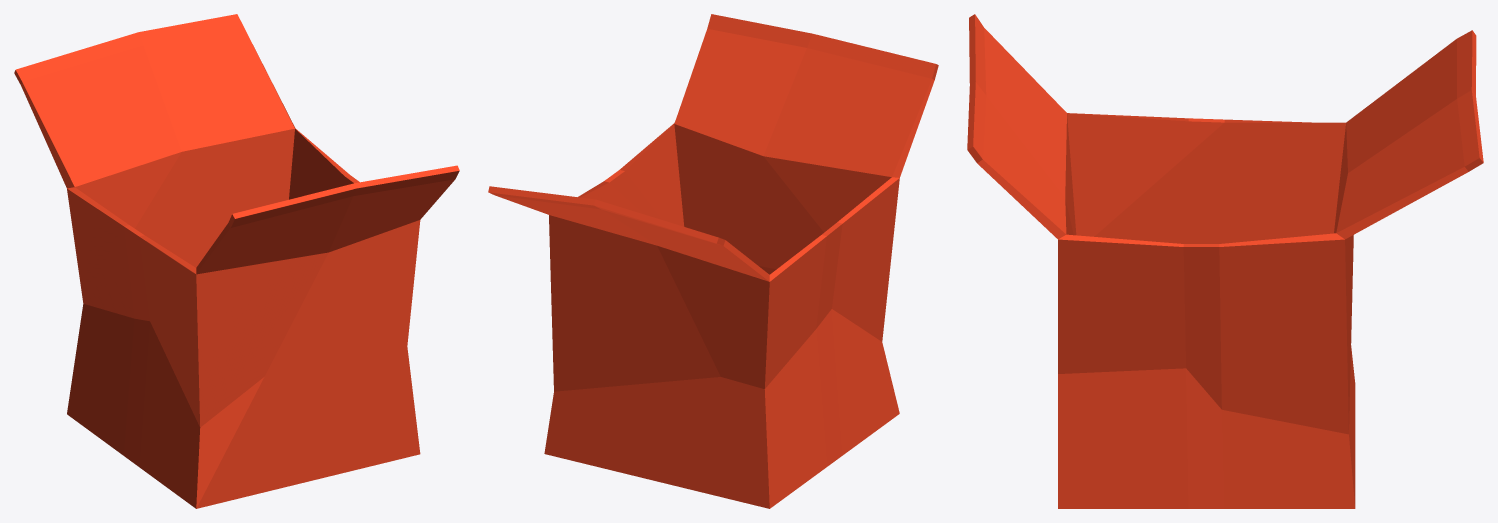
Rendered from SM_Box_A_Open_City.fbx.
3 renders of one model, left to right at view 1: azimuth 30°, elevation 25°; view 2: azimuth 150°, elevation 25°; view 3: azimuth 270°, elevation 25°, orthographic. The views are drawn at different scales.
Parts seen in each view (by area): view 1: SM_Box_A_Open_City; view 2: SM_Box_A_Open_City; view 3: SM_Box_A_Open_City.
Part boxes in pixels (x1,y1,x2,y2): SM_Box_A_Open_City: (14, 14, 459, 508); SM_Box_A_Open_City: (488, 14, 938, 508); SM_Box_A_Open_City: (967, 14, 1483, 508).
Bounding box in the file's own units: 0.4115 × 0.5629 × 0.7124.
